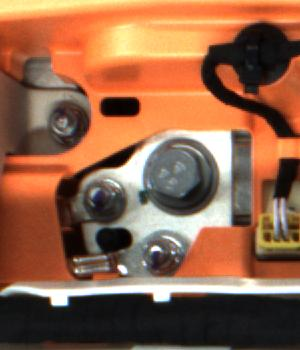nut_b: (136, 133, 223, 218)
screw_s: (81, 182, 124, 220), (140, 238, 182, 272), (42, 104, 81, 140)
